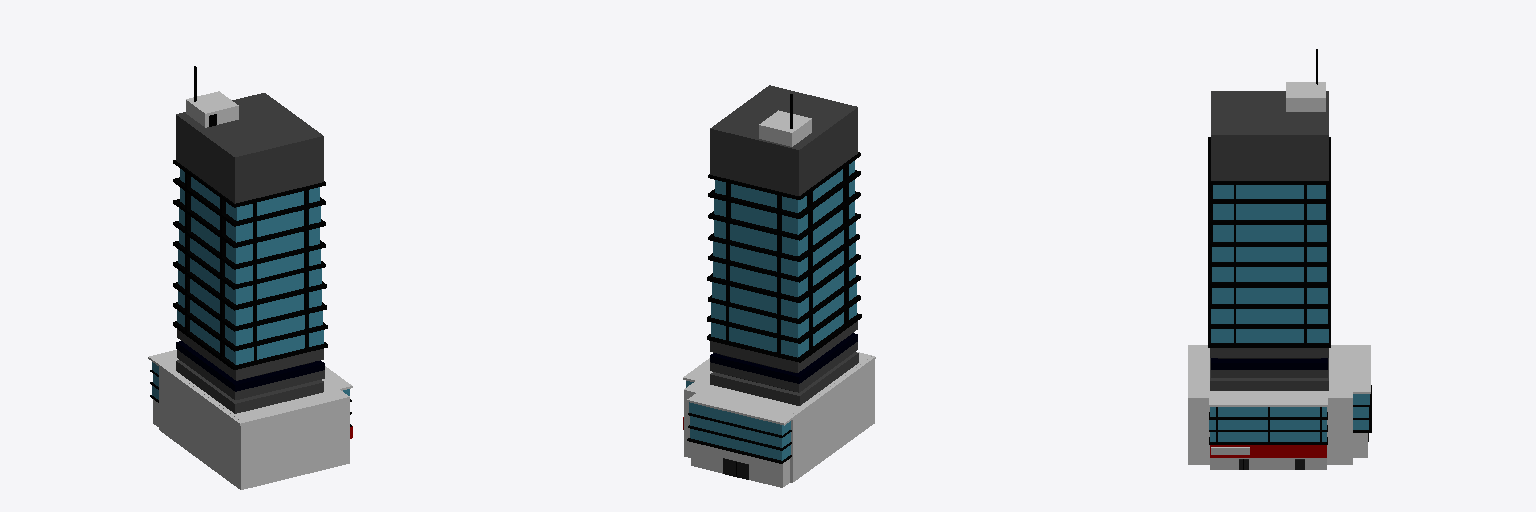
File: bill.obj
3 renders of one model, left to right at view 1: azimuth 30°, elevation 25°; view 2: azimuth 150°, elevation 25°; view 3: azimuth 270°, elevation 25°, orthographic.
Visible parts, largest first — view 1: Cube; view 2: Cube; view 3: Cube.
Boxes of the visible parts, x1=… form: Cube: x1=148, y1=66, x2=352, y2=489; Cube: x1=683, y1=85, x2=875, y2=487; Cube: x1=1188, y1=49, x2=1371, y2=469.
Bounding box in the file's own units: 7.26 × 20.74 × 9.3.